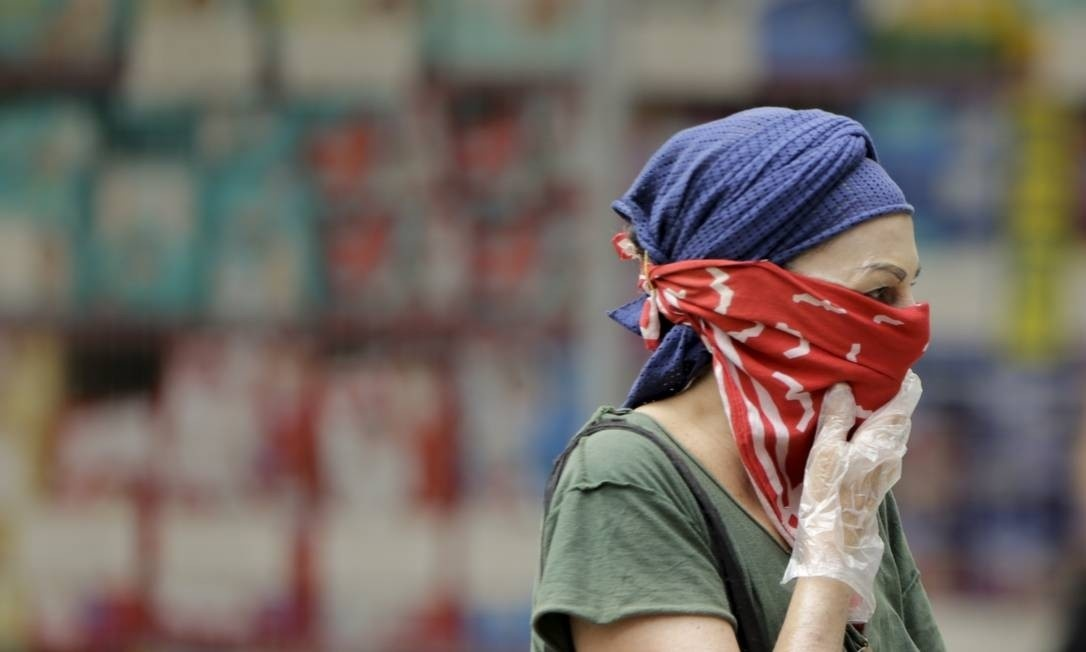face_with_mask: (672, 131, 926, 461)
